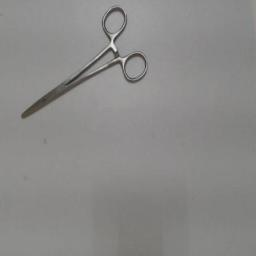Mayo Needle Holder: (16, 0, 152, 126)
